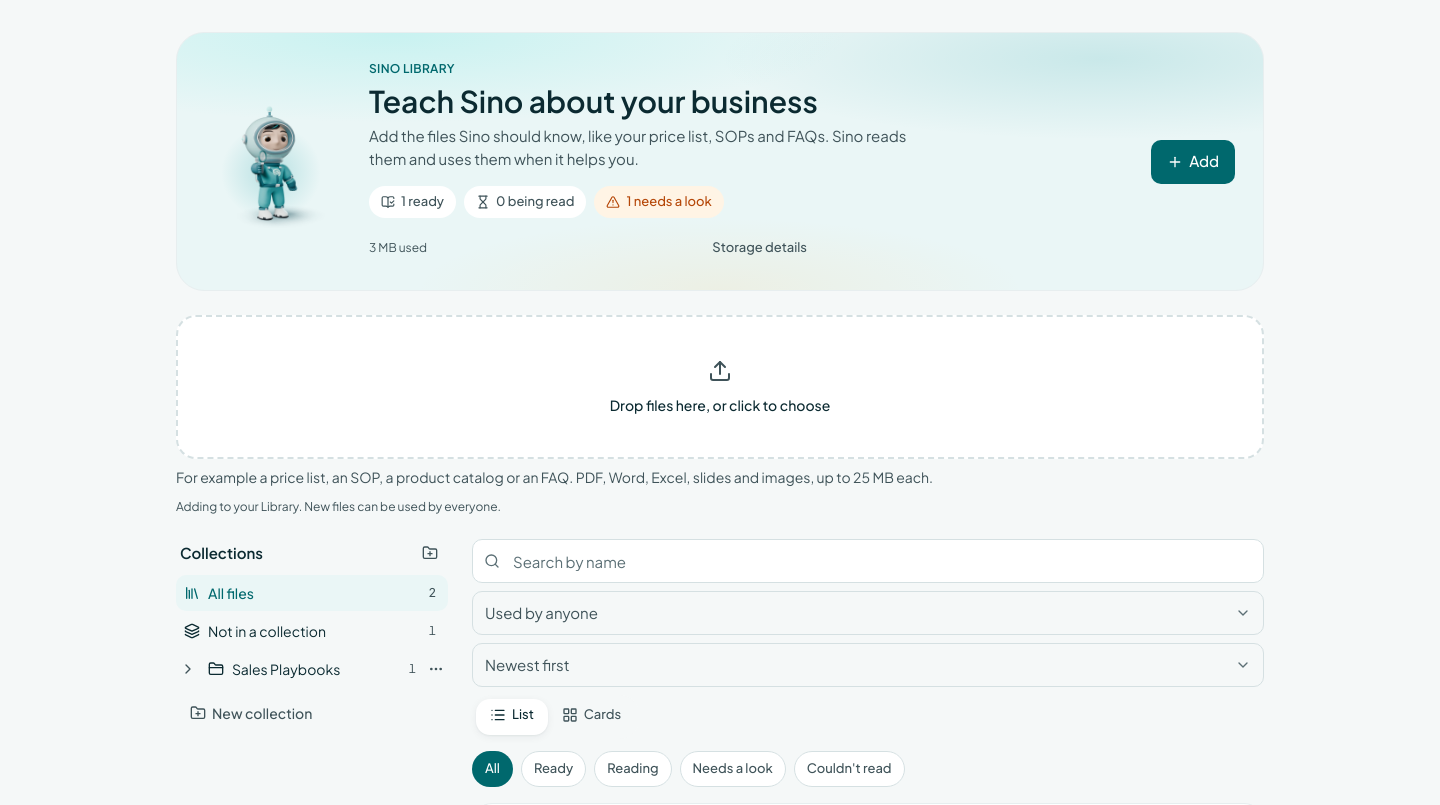
Test: collections › lists Squads and Workflows as disabled "Soon" options in the picker
The width and height of the screenshot is (1440, 805).
What coordinates should you click on to do the following:
click the button named "New collection"
I would click on:
 (430, 553)
Its box is [416,539,444,567].
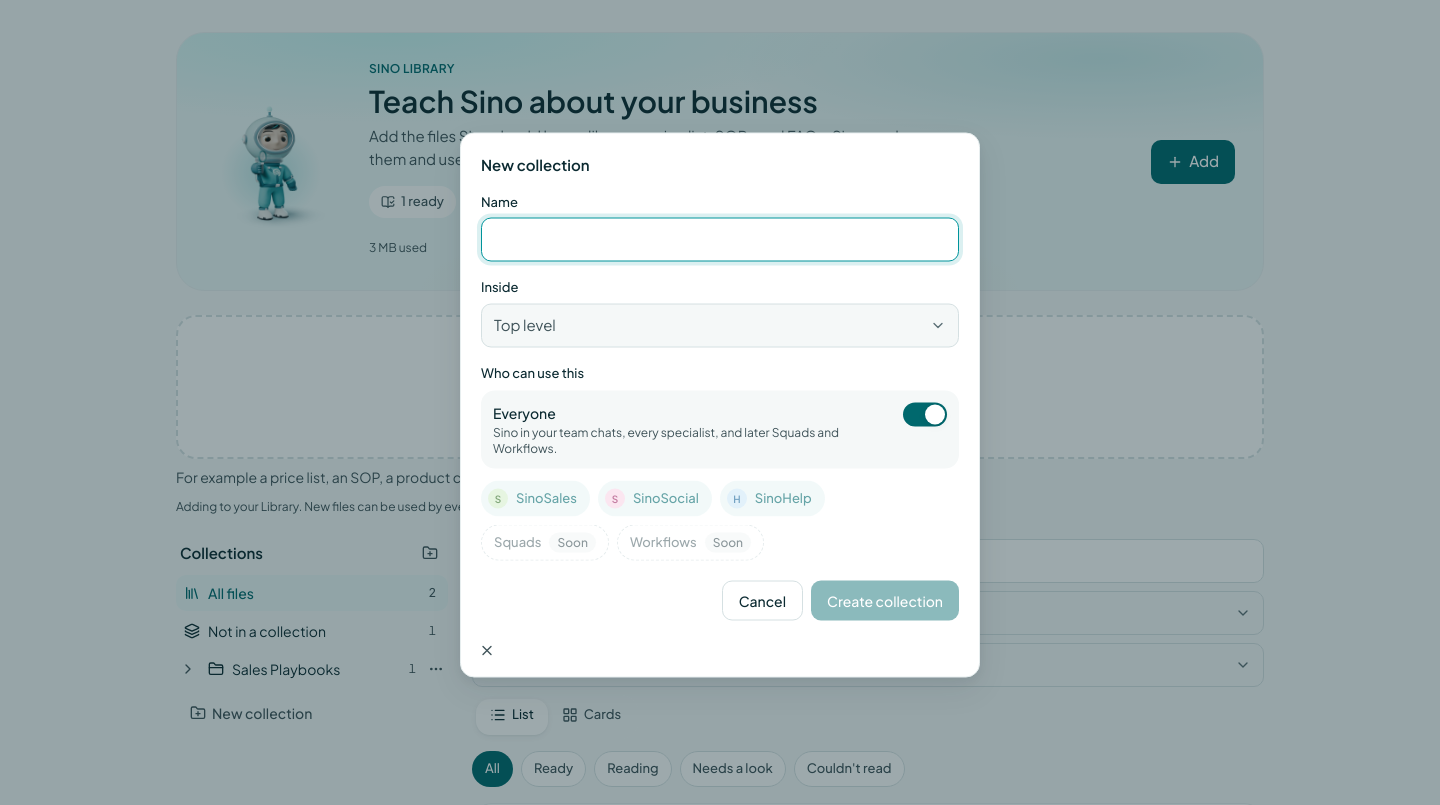
Now the button "Squads Soon" is disabled, box [481,524,609,560]
Now the 1st text "Soon" is shown, box [550,532,596,552]
Now the button "Workflows Soon" is disabled, box [617,524,764,560]
